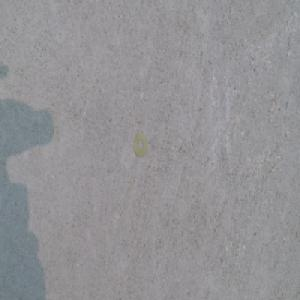Washer: (132, 134, 146, 158)
